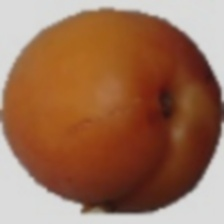apricot: (39, 0, 207, 200)
